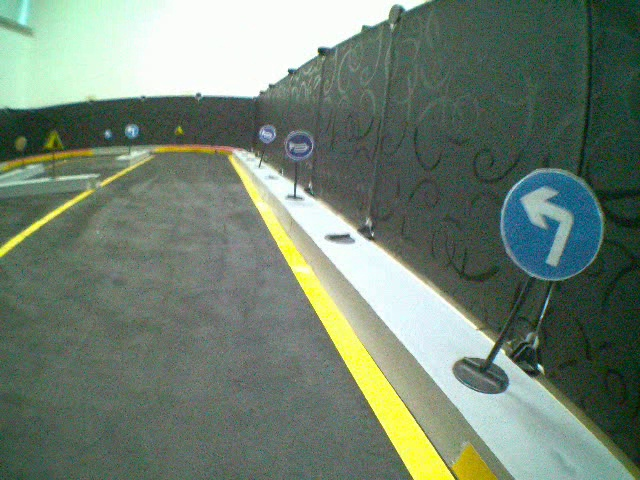fast: (42, 128, 64, 151)
horn: (284, 130, 314, 158), (259, 124, 277, 143)
turn: (498, 166, 607, 283), (124, 124, 140, 140)
